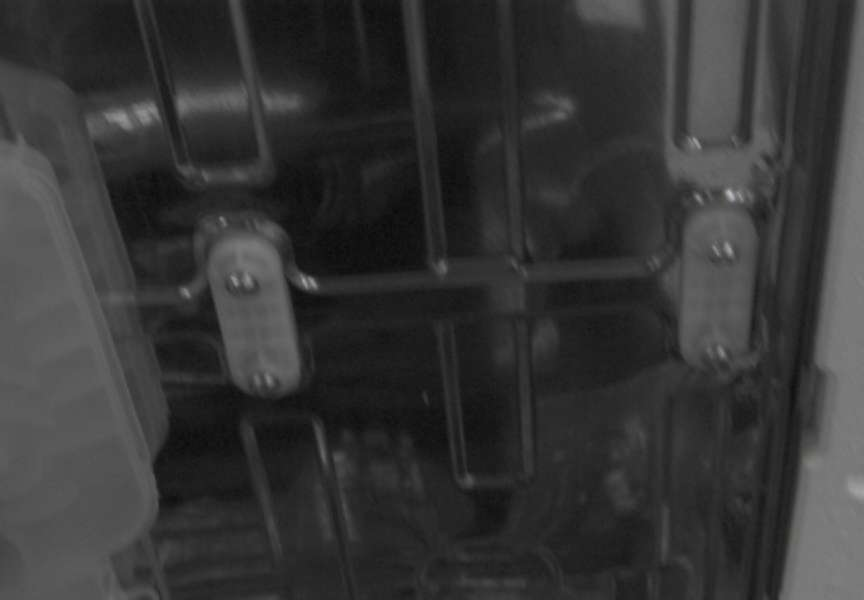screw: (703, 343, 734, 374), (225, 270, 259, 296), (708, 239, 739, 266), (249, 371, 281, 397)
